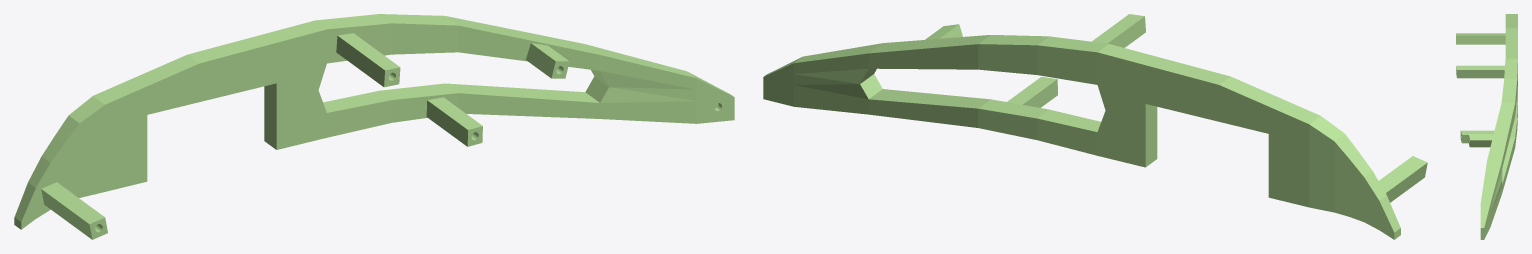
File: Piece 8.obj
The picture shows the model from 3 angles, left to right: view 1: azimuth 30°, elevation 25°; view 2: azimuth 150°, elevation 25°; view 3: azimuth 270°, elevation 25°; orthographic projection. The views are drawn at different scales.
Parts seen in each view (by area): view 1: Object.1; view 2: Object.1; view 3: Object.1.
Part boxes in pixels (x1,y1,x2,y2): Object.1: (14,14,734,239); Object.1: (763,14,1427,239); Object.1: (1456,14,1517,239).
Size of the model in its own units: 216 by 49.93 by 32.82.
